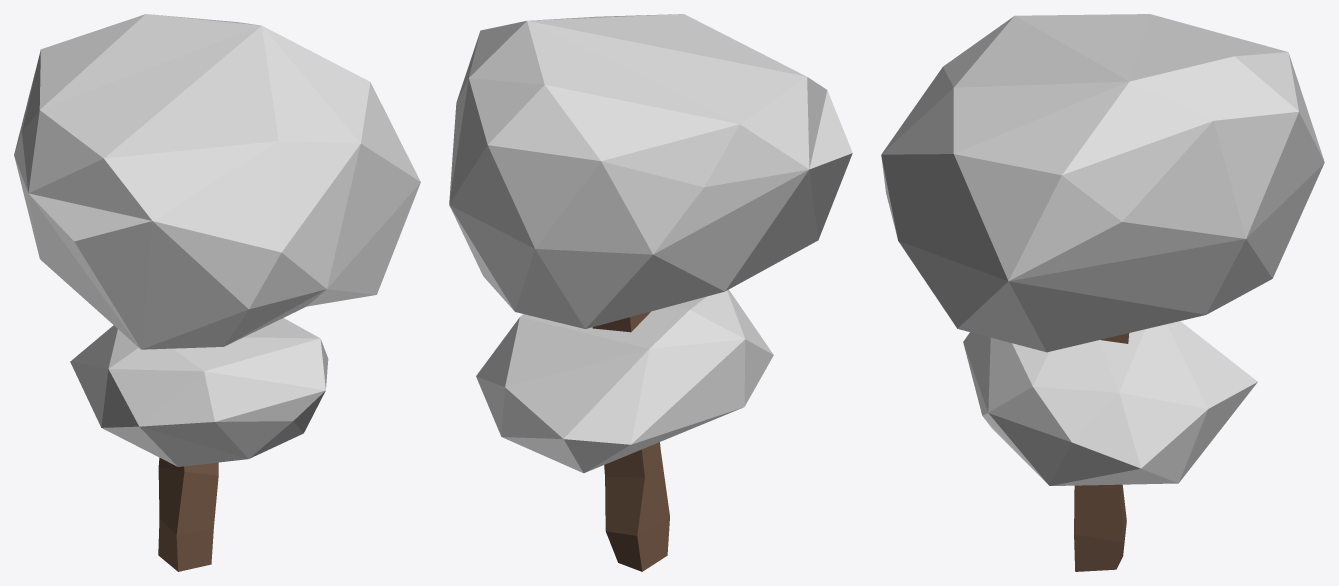
File: Tree_52_White.fbx
3 views of the same model, side by side, from view 1: azimuth 30°, elevation 25°; view 2: azimuth 150°, elevation 25°; view 3: azimuth 270°, elevation 25° (orthographic). The views are drawn at different scales.
Visible parts, largest first — view 1: Tree_52_White_Part_1, Tree_52_White_Part_2; view 2: Tree_52_White_Part_1, Tree_52_White_Part_2; view 3: Tree_52_White_Part_1, Tree_52_White_Part_2.
Boxes of the visible parts, x1,y1,x2,y2 form: Tree_52_White_Part_1: (14,14,420,466); Tree_52_White_Part_2: (158,457,218,571); Tree_52_White_Part_1: (449,14,852,473); Tree_52_White_Part_2: (592,311,669,571); Tree_52_White_Part_1: (881,14,1324,485); Tree_52_White_Part_2: (1074,333,1129,571).
Size of the model in its own units: 447 by 607 by 461.
